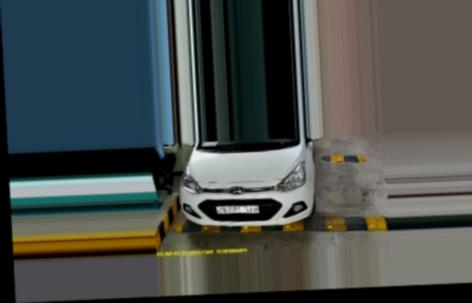License_Plate: (209, 201, 261, 216)
